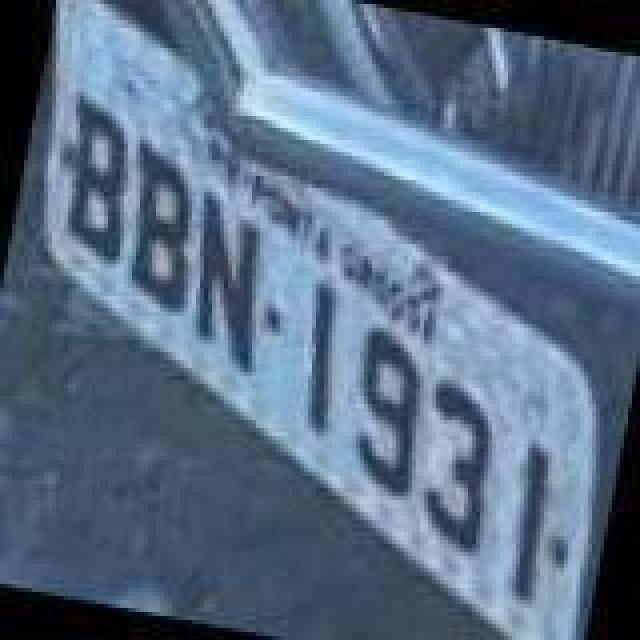1: (492, 438, 564, 610), (284, 278, 356, 442)
3: (400, 372, 512, 556)
9: (332, 322, 444, 502)
B: (104, 136, 216, 320), (42, 92, 150, 268)
N: (170, 186, 286, 374)
